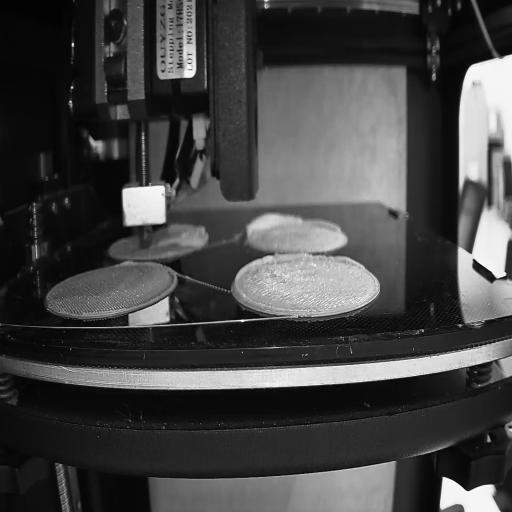over_extrusion: (232, 253, 314, 316), (242, 209, 303, 239), (168, 220, 207, 236), (307, 216, 341, 233), (332, 255, 366, 271), (156, 238, 170, 251), (118, 256, 136, 266)
